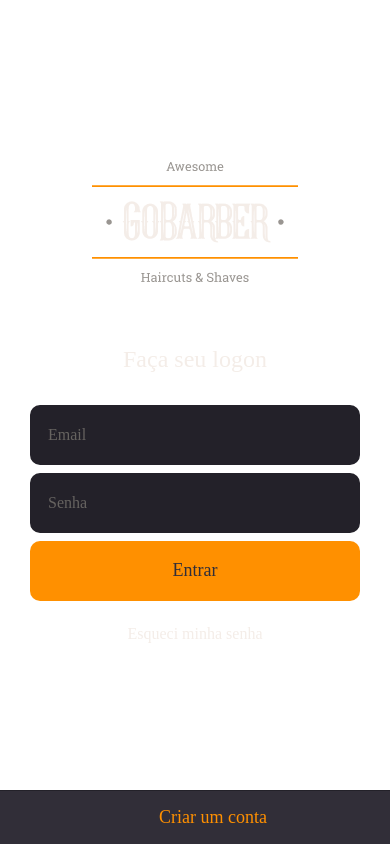
Test: SignIn page › should be not able to login with invalid data
The image size is (390, 844).
Type "invalid-email" into the field with placeholder "Email" at (195, 434), box [48,426,342,444]
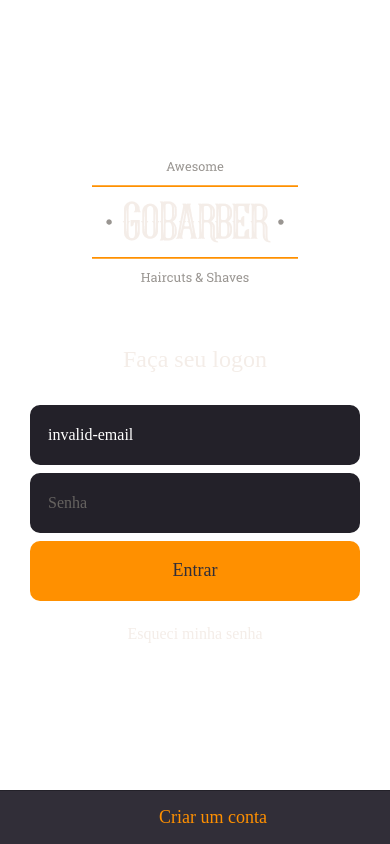
Click the button with test id "submit" at (195, 570), box [30,540,360,600]
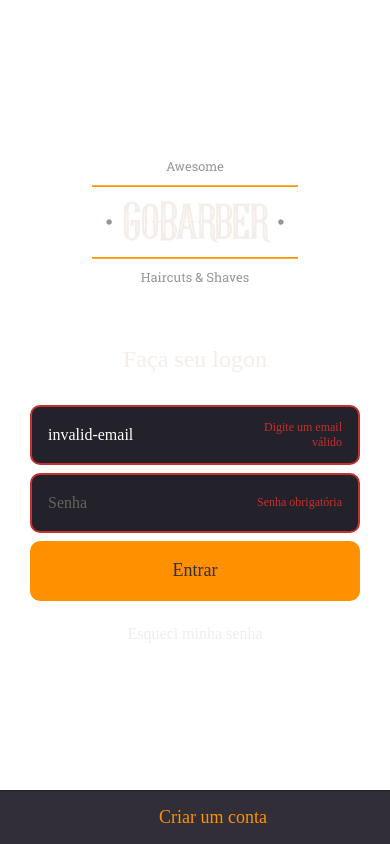
expect the text "Digite um email válido" is shown: met, box [248,420,342,450]
expect the text "Senha obrigatória" is shown: met, box [248,495,342,510]
